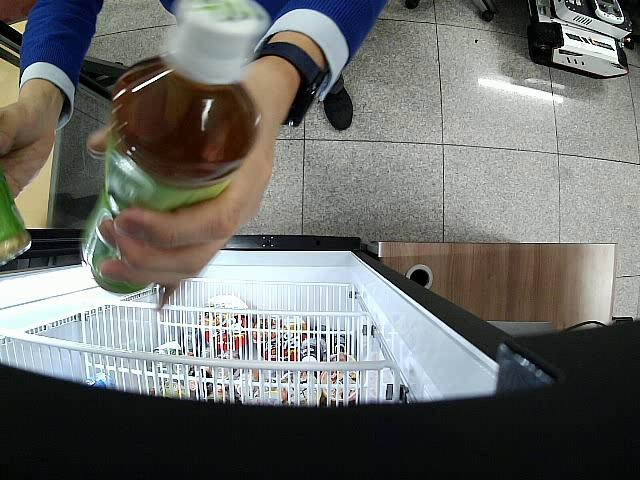00_hand: (89, 96, 290, 282), (0, 98, 61, 203)
19_17cha: (81, 0, 266, 295), (1, 172, 33, 268)
